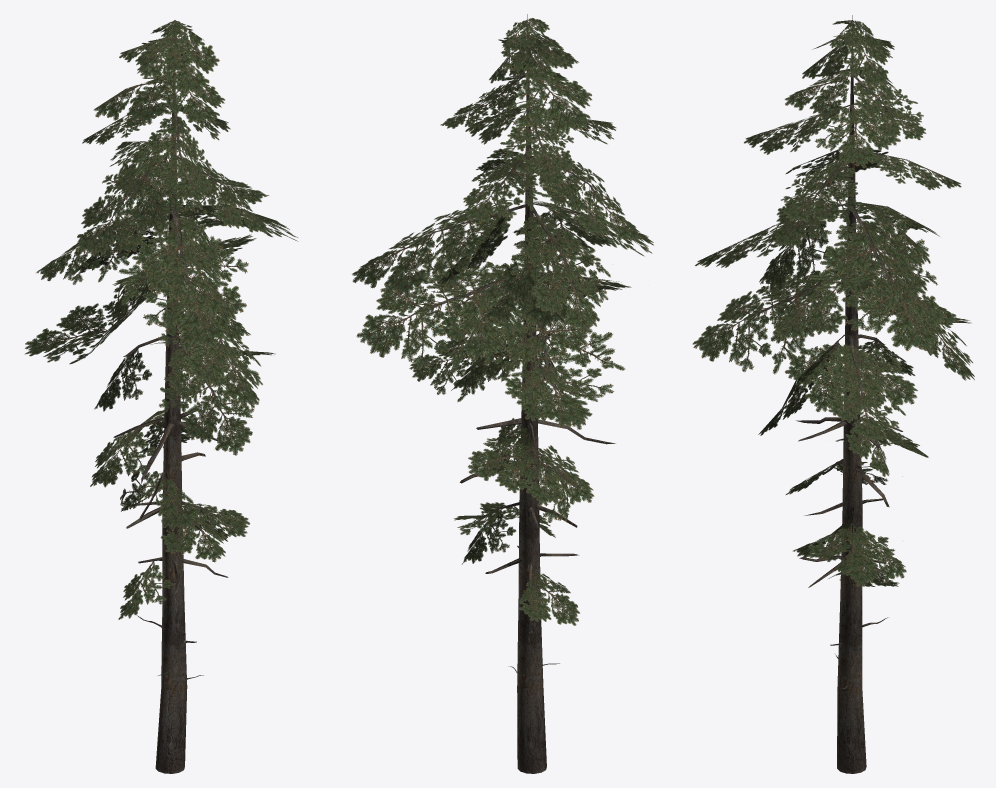
3 renders of one model, left to right at view 1: azimuth 30°, elevation 25°; view 2: azimuth 150°, elevation 25°; view 3: azimuth 270°, elevation 25°, orthographic.
Visible parts, largest first — view 1: tree; view 2: tree; view 3: tree.
Part boxes in pixels (<box>): tree: <box>24,20,298,773</box>; tree: <box>352,14,653,773</box>; tree: <box>692,15,974,773</box>.
Bounding box in the file's own units: 19.99 × 55.56 × 19.84.
Materials: 2 (2 with a texture image).
